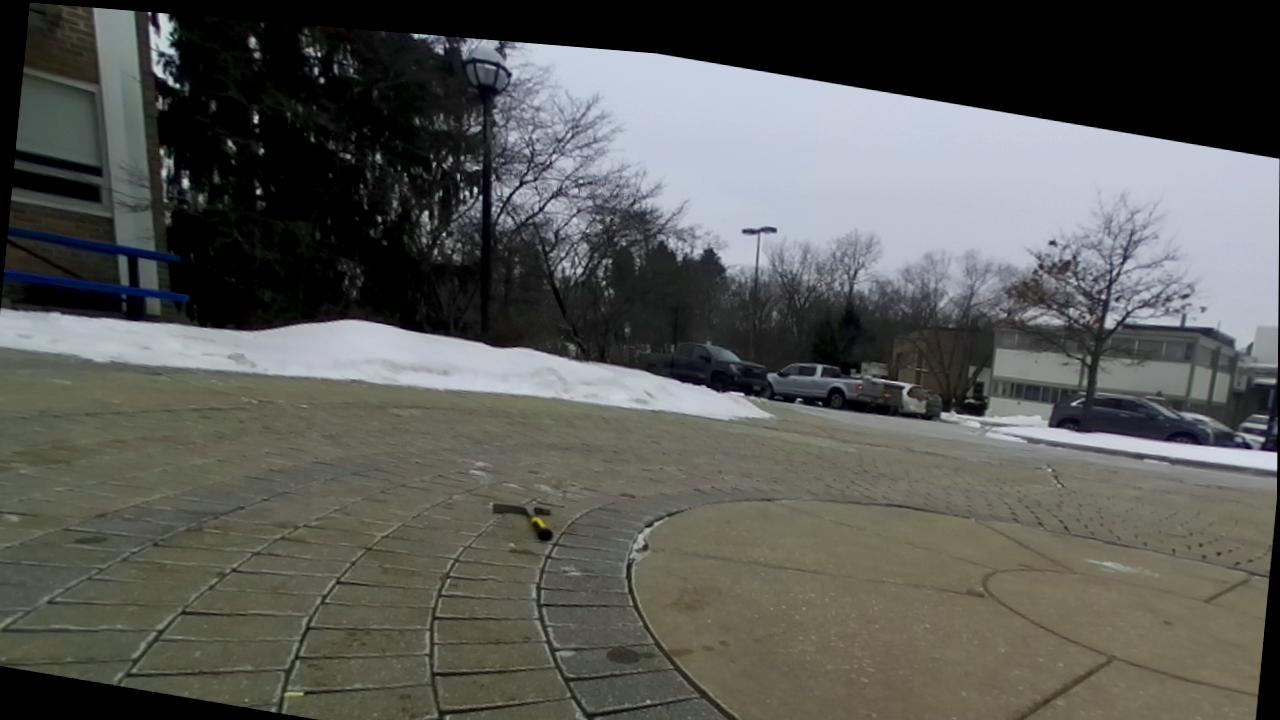pick: (492, 503, 552, 539)
